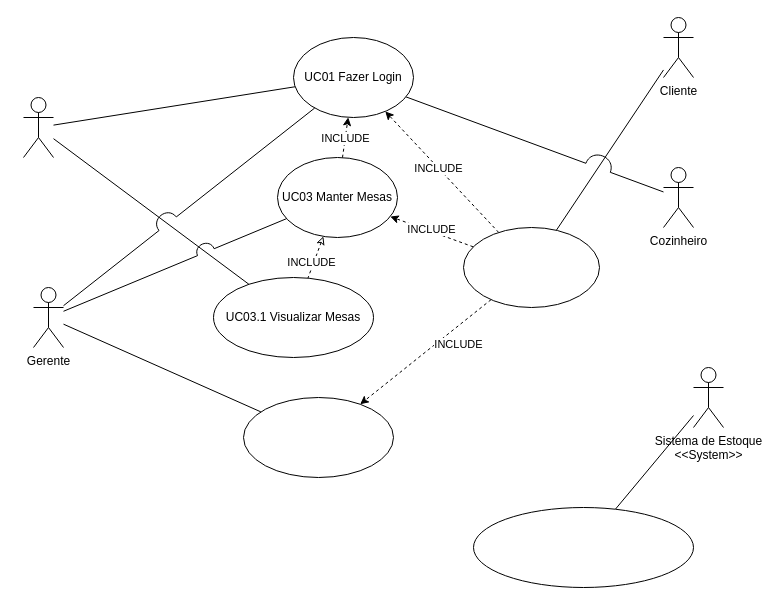
Image size: 779x605. Some labels were removed from this diagram. Each missing label, with the centre of its shape:
"Garçom" goes at point 38,127.
"UC02 Realizar Pedido" goes at point 531,267.
"UC12 Manter Cardápio" goes at point 318,437.
"UC19 Emitir Alerta de Baixo Estoque" goes at point 583,547.
